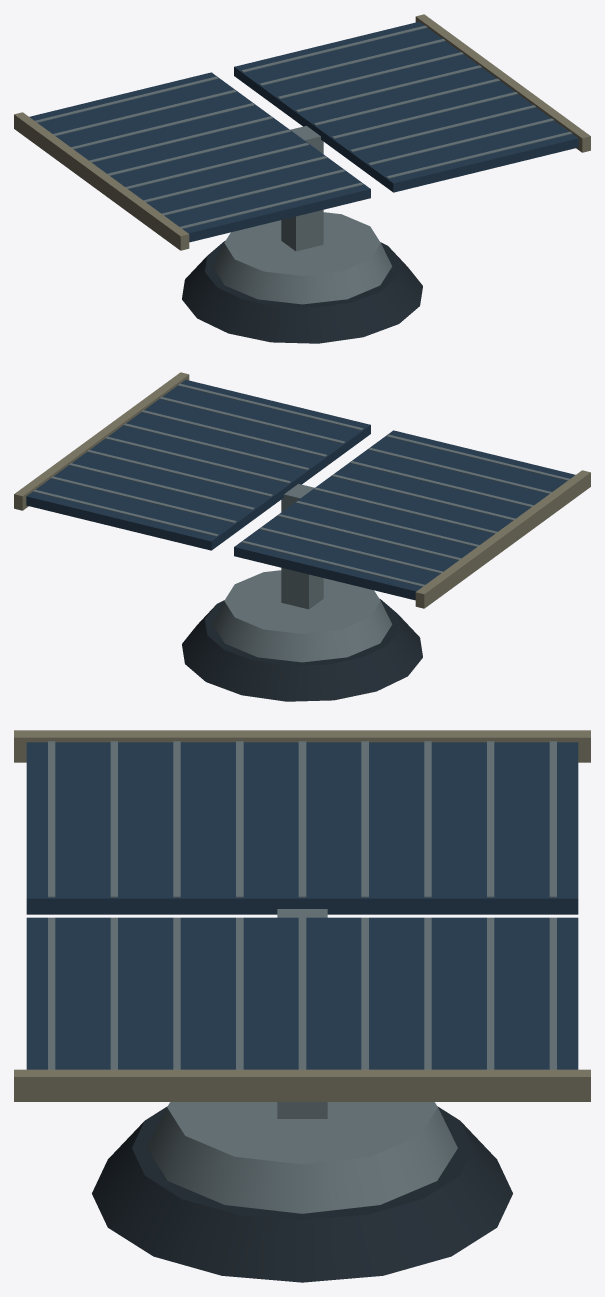
Rendered from pelagic_high_pressure--radiator.glb.
3 renders of one model, top to bottom at view 1: azimuth 30°, elevation 25°; view 2: azimuth 150°, elevation 25°; view 3: azimuth 270°, elevation 25°, orthographic. The views are drawn at different scales.
Parts seen in each view (by area): view 1: radiator_panel_15, radiator_panel_4, rotation_bearing_2, mount_adapter_1, panel_edge_14, panel_edge_25, thermal_riser_3, thermal_channel_24, thermal_channel_16, thermal_channel_18, thermal_channel_23, thermal_channel_17 (+13 smaller); view 2: radiator_panel_15, radiator_panel_4, rotation_bearing_2, mount_adapter_1, panel_edge_14, panel_edge_25, thermal_riser_3, thermal_channel_16, thermal_channel_22, thermal_channel_24, thermal_channel_17, thermal_channel_18 (+13 smaller); view 3: radiator_panel_4, radiator_panel_15, mount_adapter_1, rotation_bearing_2, panel_edge_25, panel_edge_14, thermal_channel_9, thermal_channel_20, thermal_riser_3, thermal_channel_5, thermal_channel_6, thermal_channel_7 (+13 smaller).
Part boxes in pixels (bbox=[...]): radiator_panel_15: bbox=[234, 22, 578, 192]; radiator_panel_4: bbox=[29, 72, 370, 242]; rotation_bearing_2: bbox=[212, 212, 392, 304]; mount_adapter_1: bbox=[182, 240, 422, 343]; panel_edge_14: bbox=[14, 112, 189, 250]; panel_edge_25: bbox=[415, 14, 590, 152]; thermal_riser_3: bbox=[281, 126, 323, 251]; thermal_channel_24: bbox=[386, 131, 572, 178]; thermal_channel_16: bbox=[241, 25, 427, 72]; thermal_channel_18: bbox=[277, 52, 463, 98]; thermal_channel_23: bbox=[368, 118, 554, 165]; thermal_channel_17: bbox=[260, 39, 445, 85]; radiator_panel_15: bbox=[26, 380, 370, 550]; radiator_panel_4: bbox=[234, 430, 575, 600]; rotation_bearing_2: bbox=[212, 570, 392, 662]; mount_adapter_1: bbox=[182, 598, 422, 701]; panel_edge_14: bbox=[415, 470, 590, 608]; panel_edge_25: bbox=[14, 372, 189, 510]; thermal_riser_3: bbox=[281, 484, 323, 609]; thermal_channel_16: bbox=[32, 489, 218, 536]; thermal_channel_22: bbox=[141, 410, 327, 456]; thermal_channel_24: bbox=[177, 383, 363, 430]; thermal_channel_17: bbox=[50, 476, 236, 523]; thermal_channel_18: bbox=[69, 463, 254, 509]; radiator_panel_4: bbox=[26, 742, 578, 914]; radiator_panel_15: bbox=[26, 917, 578, 1069]; mount_adapter_1: bbox=[92, 1106, 512, 1282]; rotation_bearing_2: bbox=[147, 1102, 457, 1213]; panel_edge_25: bbox=[14, 1069, 590, 1101]; panel_edge_14: bbox=[14, 730, 590, 762]; thermal_channel_9: bbox=[298, 741, 306, 897]; thermal_channel_20: bbox=[298, 917, 306, 1069]; thermal_riser_3: bbox=[277, 909, 327, 1118]; thermal_channel_5: bbox=[549, 741, 556, 897]; thermal_channel_6: bbox=[487, 741, 494, 897]; thermal_channel_7: bbox=[424, 741, 431, 897].
Bounding box in the file's own units: 19.62 × 7.65 × 13.8.
